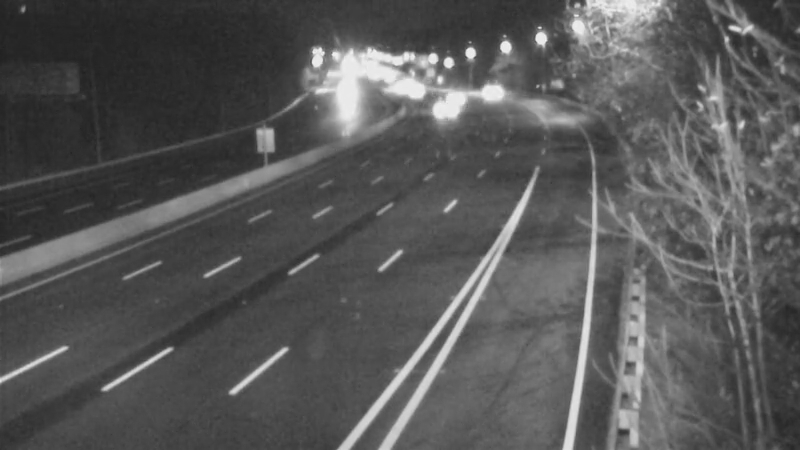vehicle: (394, 65, 444, 115), (464, 63, 514, 113), (428, 72, 478, 122), (421, 86, 471, 136), (321, 78, 371, 128)
